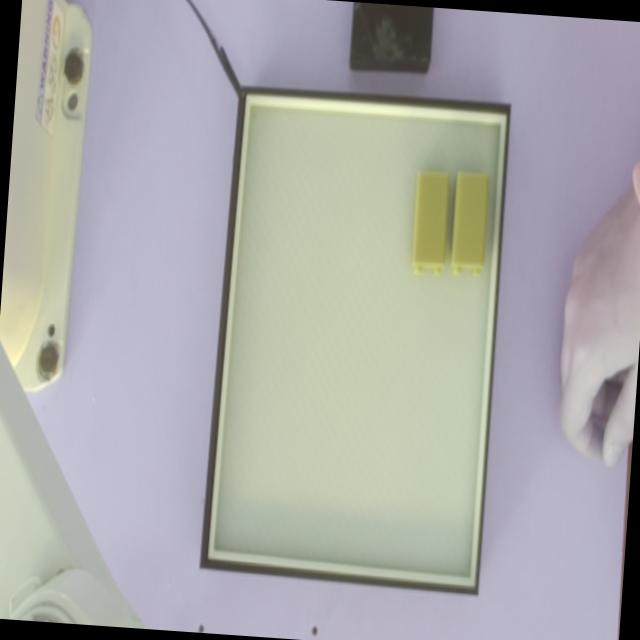bateria: (451, 173, 489, 273), (411, 171, 449, 271)
mesa: (199, 84, 511, 594)
